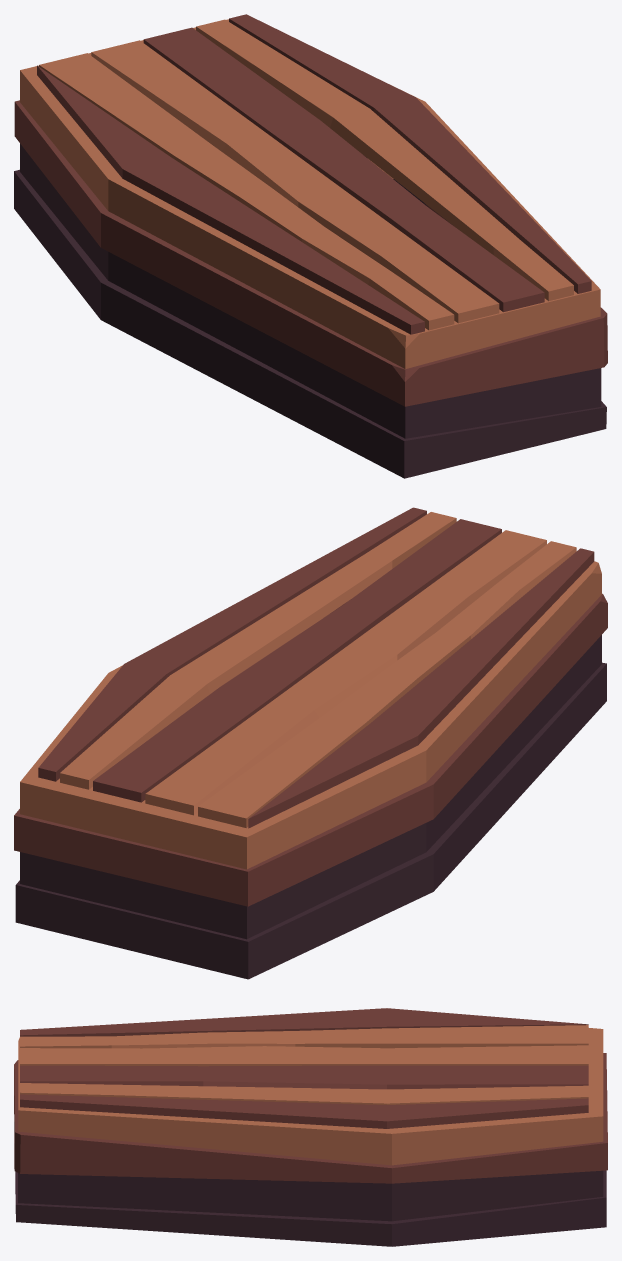
The model's file is Casket 01.fbx.
3 views of the same model, one above another, from view 1: azimuth 30°, elevation 25°; view 2: azimuth 150°, elevation 25°; view 3: azimuth 270°, elevation 25° (orthographic). The views are drawn at different scales.
Visible parts, largest first — view 1: Casket 01 Lid, Casket 01; view 2: Casket 01, Casket 01 Lid; view 3: Casket 01, Casket 01 Lid.
Boxes of the visible parts, box(x1,y1,x2,y2) form: Casket 01 Lid: box(37, 14, 591, 334); Casket 01: box(14, 19, 607, 478); Casket 01: box(14, 561, 607, 979); Casket 01 Lid: box(38, 507, 594, 828); Casket 01: box(14, 1028, 607, 1246); Casket 01 Lid: box(20, 1008, 588, 1128).
Size of the model in its own units: 135 by 58.07 by 265.
